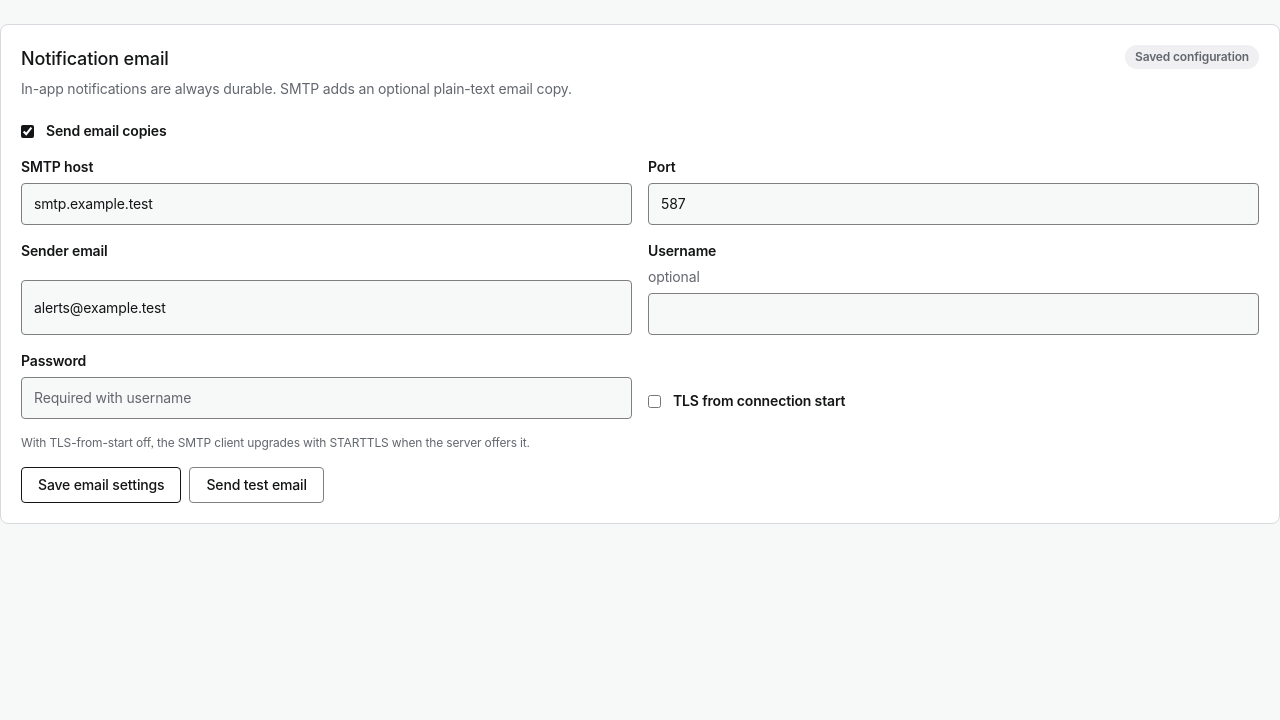
Test: SmtpSettingsCard › hides unclassified credential failure details
Expected: the field labelled "SMTP host" is shown, [21, 183, 632, 225]
Click the button "Send test email": (257, 485) [190, 467, 324, 503]
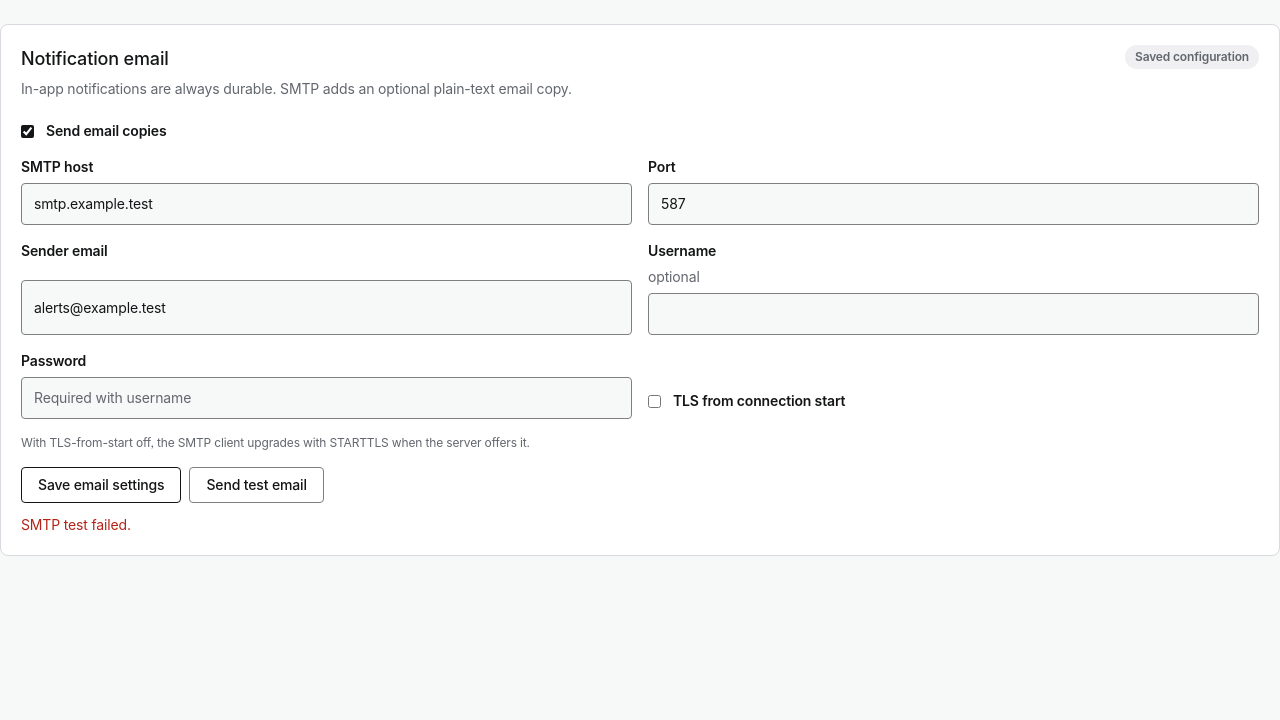
Expected: the message reads "SMTP test failed.", [21, 516, 131, 533]
